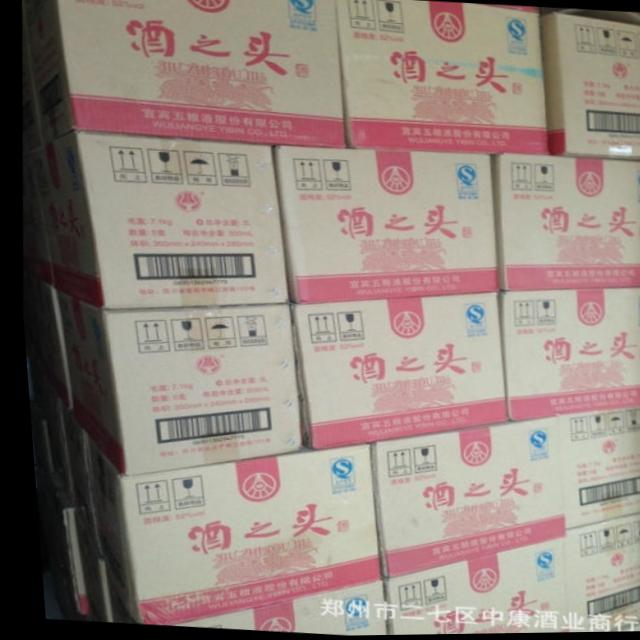box: (81, 435, 371, 625), (22, 0, 342, 148), (50, 289, 295, 476), (26, 132, 284, 308), (270, 146, 493, 304), (286, 292, 502, 449), (337, 0, 545, 155), (363, 417, 557, 577), (487, 153, 640, 291), (493, 289, 640, 422), (374, 538, 557, 636), (538, 10, 640, 160), (123, 583, 377, 636), (550, 405, 640, 531), (557, 514, 640, 634), (28, 470, 80, 617), (21, 272, 66, 409), (57, 404, 88, 549), (67, 515, 104, 621), (20, 153, 48, 285), (35, 375, 63, 505), (20, 14, 40, 152), (23, 402, 44, 480), (603, 620, 640, 633)
